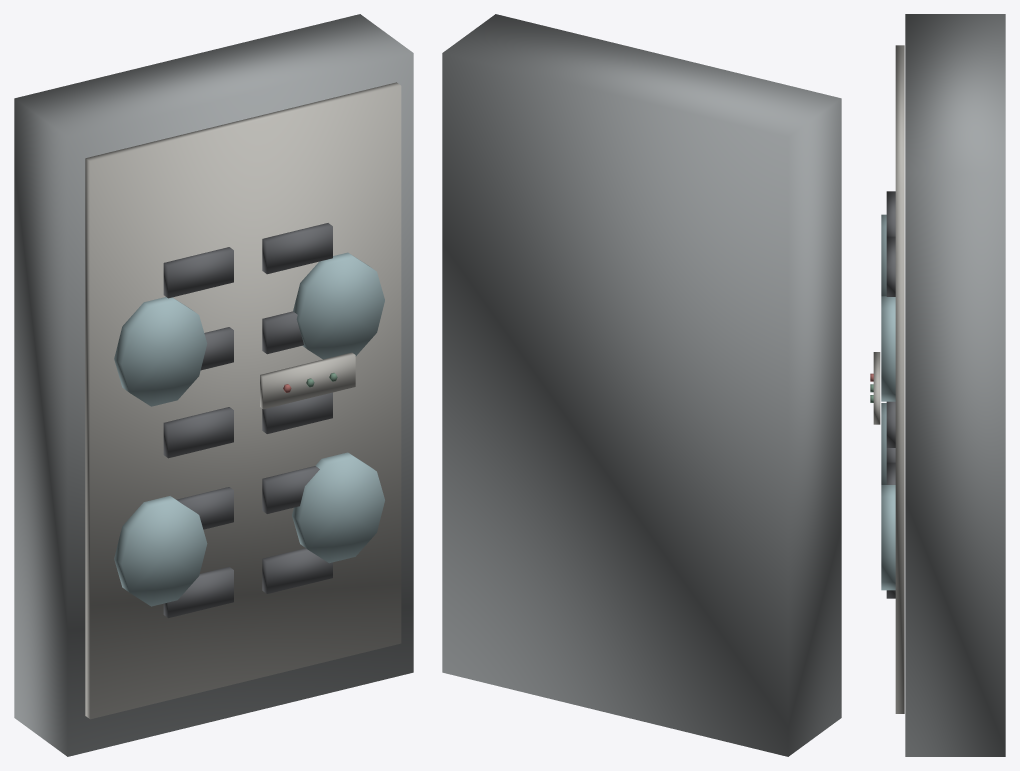
Rendered from meter_bank__tall.glb.
The picture shows the model from 3 angles, left to right: view 1: azimuth 30°, elevation 25°; view 2: azimuth 150°, elevation 25°; view 3: azimuth 270°, elevation 25°; orthographic projection. The views are drawn at different scales.
Visible parts, largest first — view 1: world; view 2: world; view 3: world.
Part boxes in pixels (<box>): world: <box>14,14,413,756</box>; world: <box>442,14,841,756</box>; world: <box>870,14,1005,756</box>.
Bounding box in the file's own units: 1.05 × 1.8 × 0.3785.
